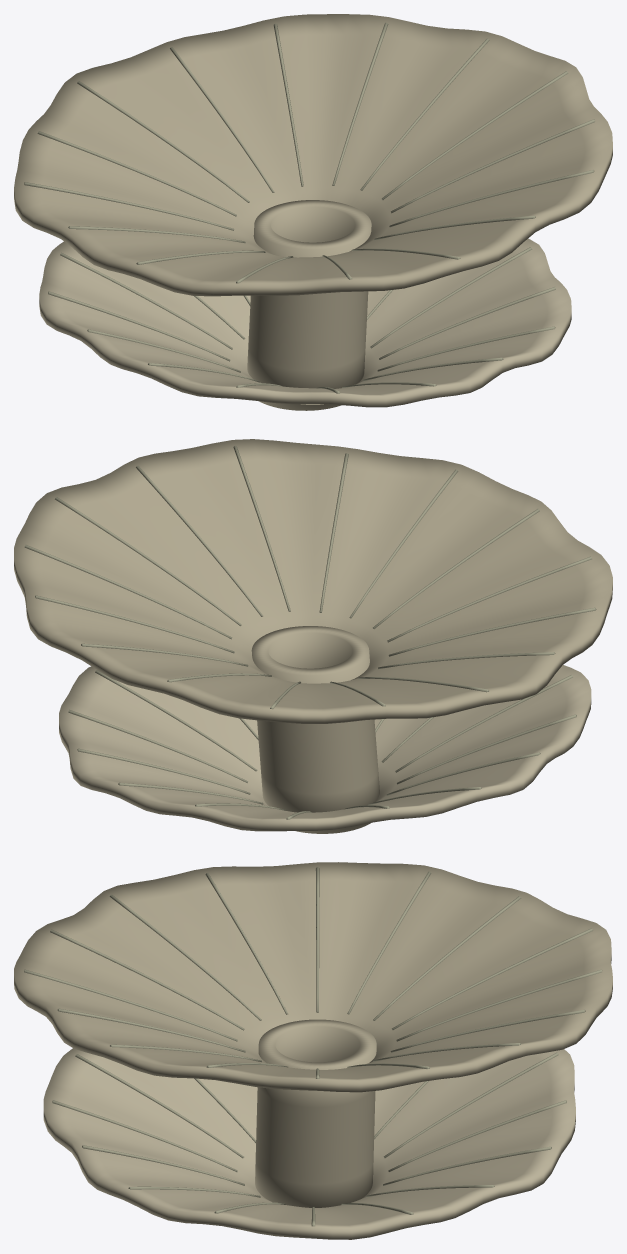
The model's file is clypeina.glb.
3 renders of one model, top to bottom at view 1: azimuth 30°, elevation 25°; view 2: azimuth 150°, elevation 25°; view 3: azimuth 270°, elevation 25°, orthographic.
Parts seen in each view (by area): view 1: two connected shallow fertile whorls only; view 2: two connected shallow fertile whorls only; view 3: two connected shallow fertile whorls only.
Boxes of the visible parts, x1=… form: two connected shallow fertile whorls only: x1=14, y1=14, x2=612, y2=410; two connected shallow fertile whorls only: x1=14, y1=439, x2=612, y2=833; two connected shallow fertile whorls only: x1=14, y1=862, x2=612, y2=1239.
Size of the model in its own units: 0.0728 by 0.0339 by 0.0721.
